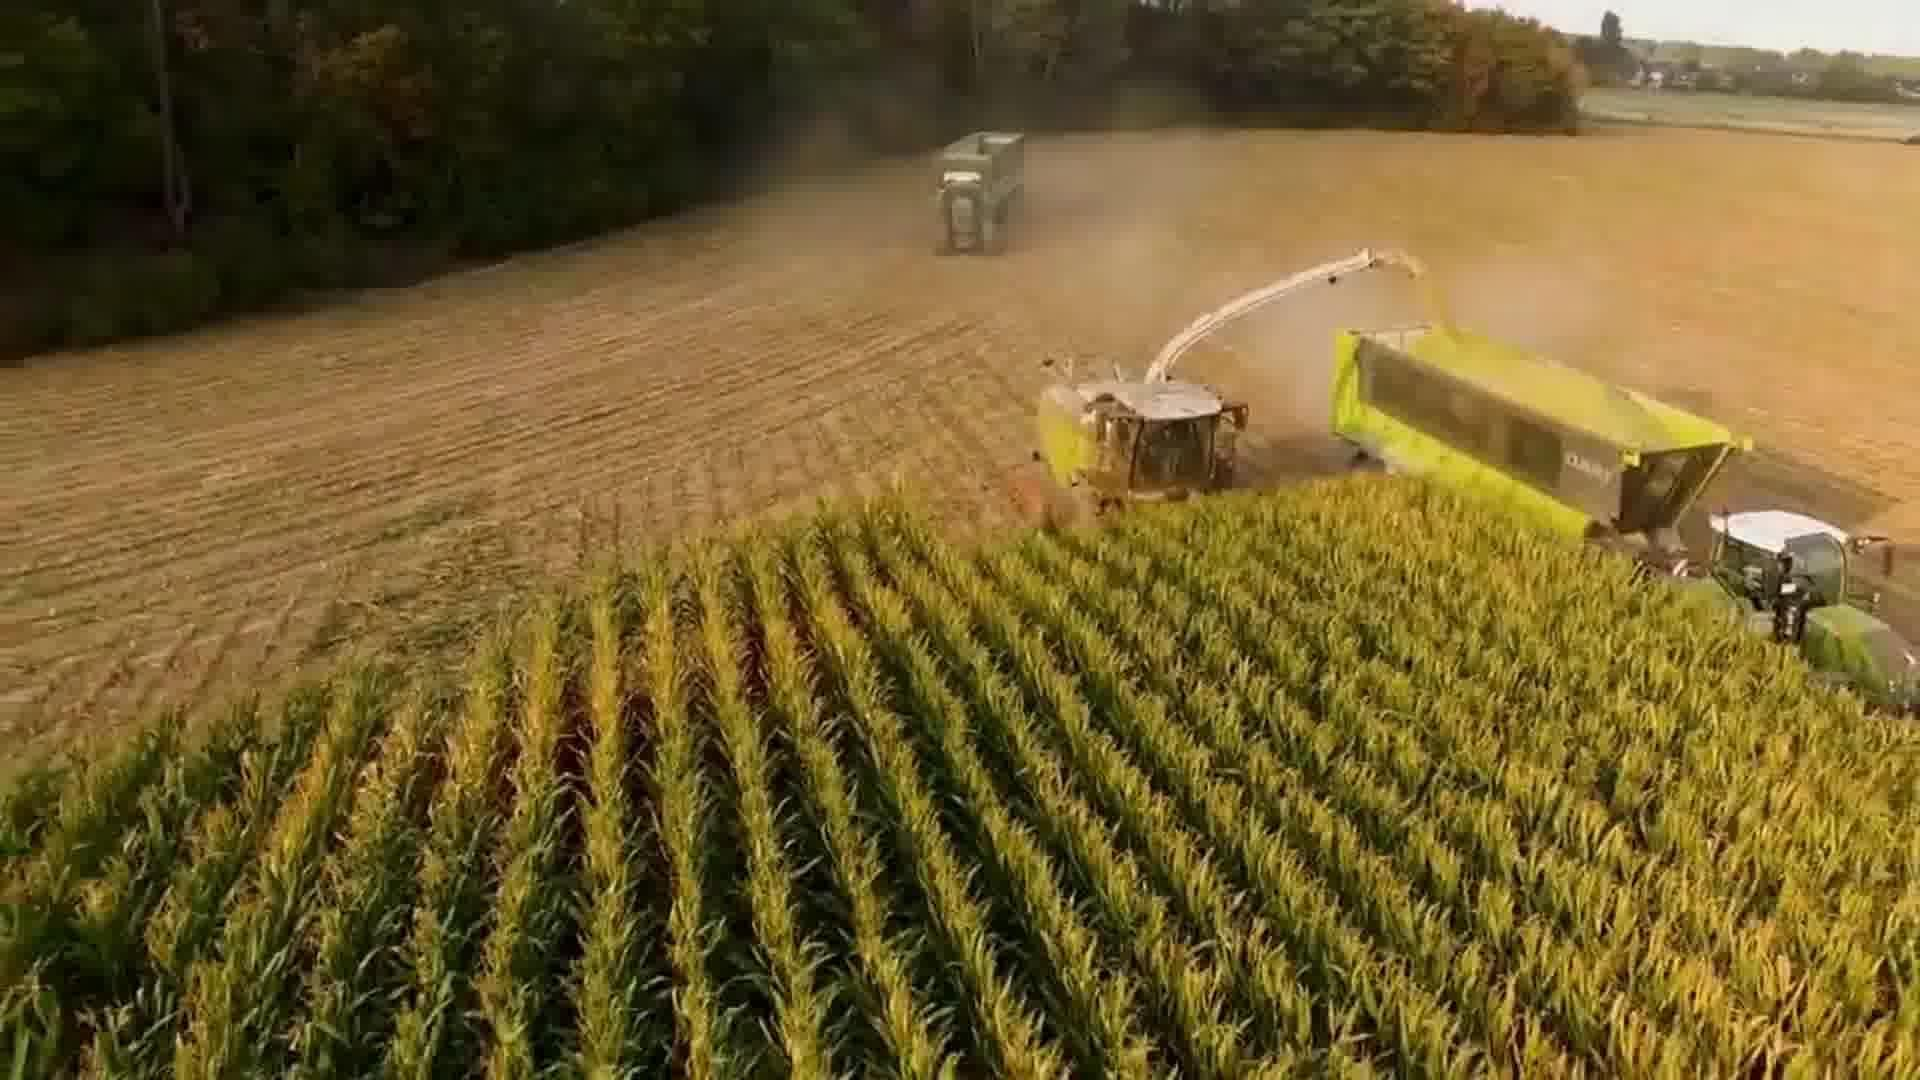combine harvester: (1014, 240, 1403, 547)
tractor: (1677, 495, 1920, 762), (924, 167, 1006, 261)
trailer: (1320, 306, 1755, 591), (927, 117, 1034, 228)
